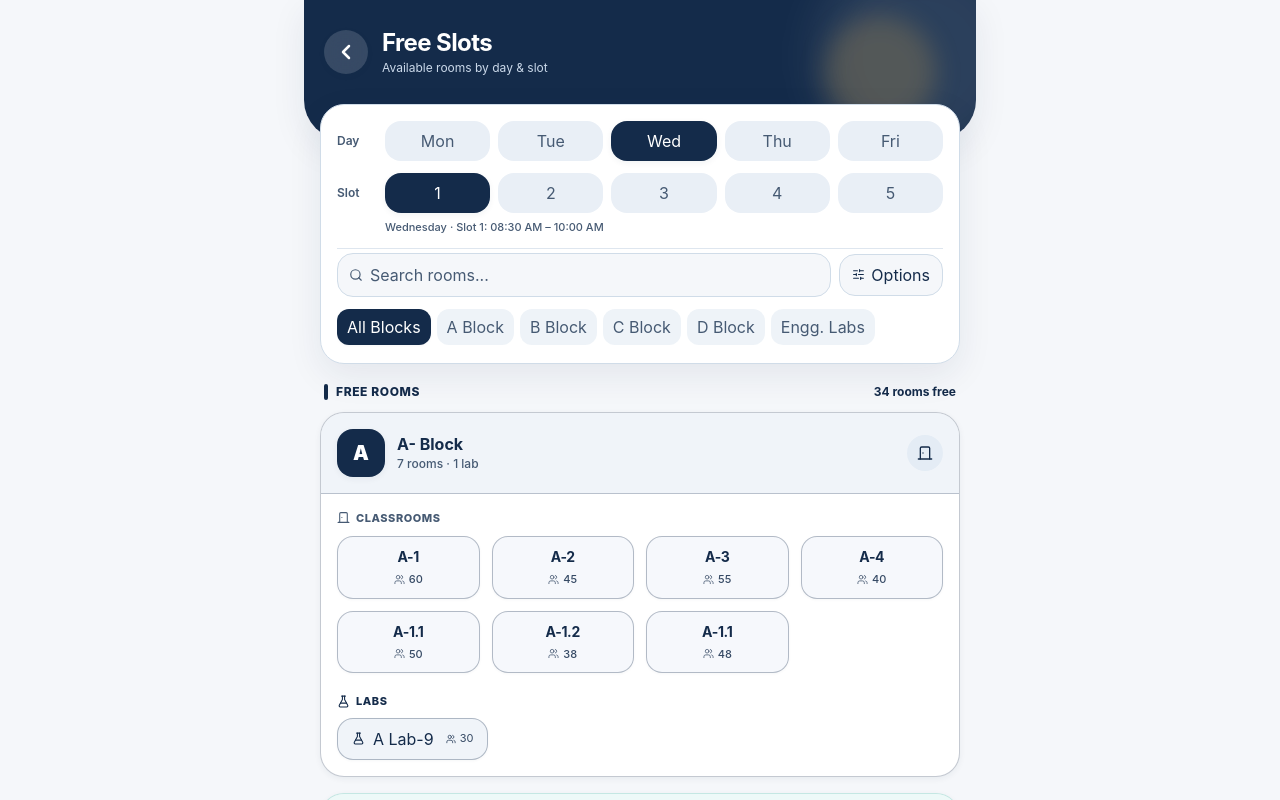
Scenario: FreeSlotsNavigator › opens room detail modal when clicking a room and closes it
The width and height of the screenshot is (1280, 800).
Click the button "A-1 60": (408, 567) [337,536,480,598]
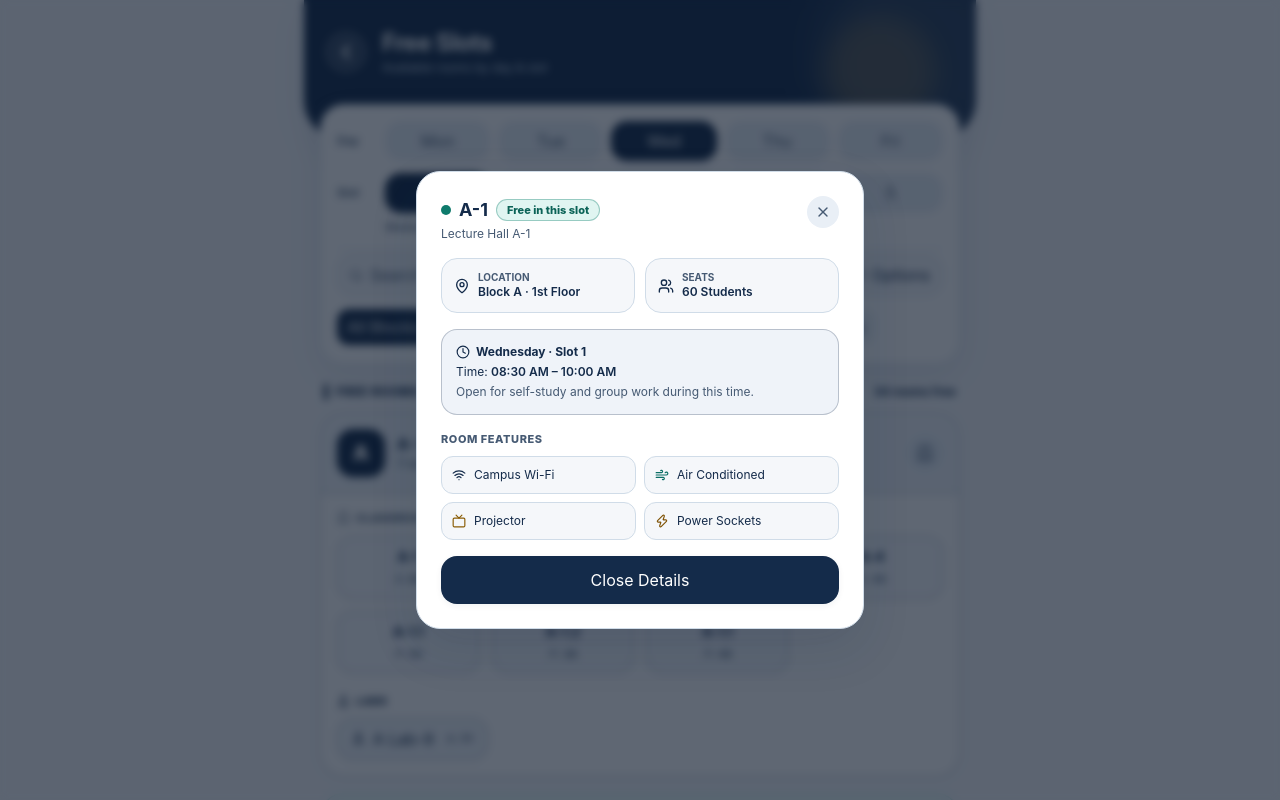
Expected: the dialog is shown
Expected: the text "Lecture Hall A-1" is shown, [441,226,530,241]
Expected: the text "Block A · 1st Floor" is shown, [478,284,580,299]
# Close modal
Click the button "Close Details": (640, 580) [441,556,839,604]
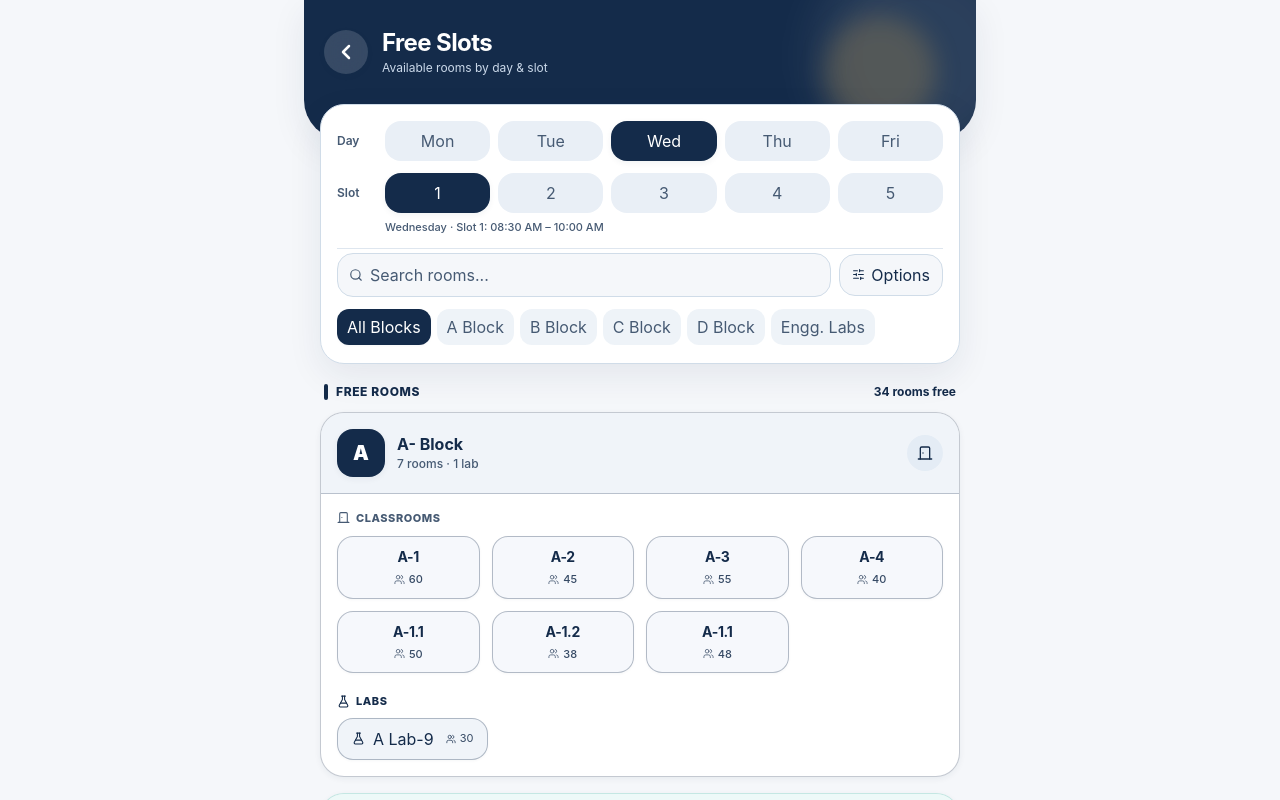
Expected: the dialog is gone
